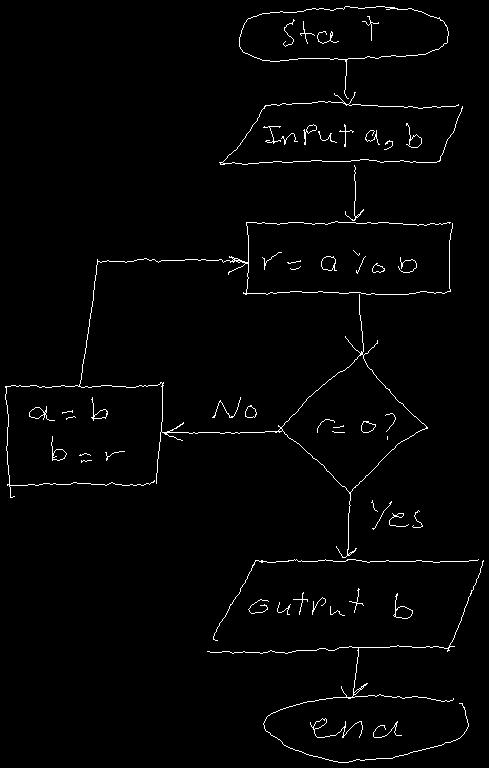arrow: (79, 256, 247, 386), (162, 422, 281, 440), (345, 294, 377, 355), (341, 647, 367, 698), (336, 492, 356, 557), (345, 165, 363, 220), (334, 60, 355, 105)
data: (207, 559, 483, 653), (219, 101, 462, 164)
decision: (276, 351, 427, 493)
process: (5, 382, 163, 497), (243, 221, 452, 294)
terminator: (263, 694, 468, 762), (239, 6, 448, 61)
text: (29, 397, 124, 462), (248, 588, 412, 618), (263, 123, 421, 149), (262, 250, 416, 273), (283, 16, 378, 46), (317, 413, 395, 439), (310, 718, 401, 737), (371, 500, 422, 529), (212, 397, 256, 417)
